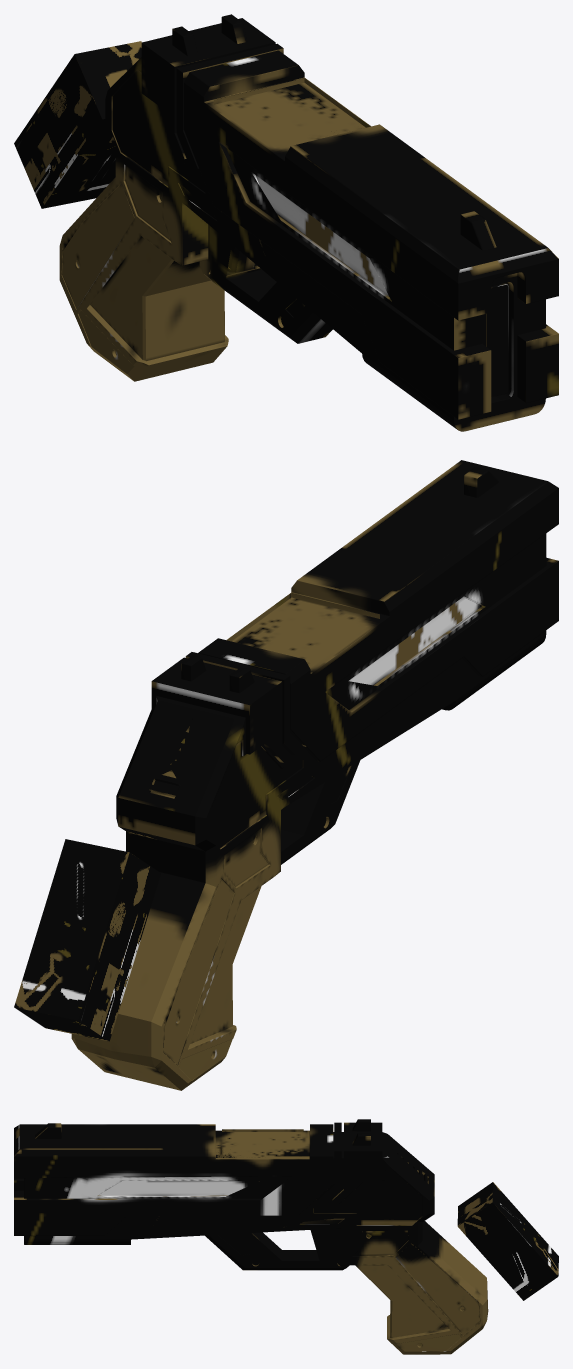
The model's file is GunF.fbx.
The picture shows the model from 3 angles, top to bottom: view 1: azimuth 30°, elevation 25°; view 2: azimuth 150°, elevation 25°; view 3: azimuth 270°, elevation 25°; orthographic projection. The views are drawn at different scales.
Parts seen in each view (by area): view 1: Slice.001, Cube; view 2: Slice.001, Cube; view 3: Slice.001, Cube.
Boxes of the visible parts, bbox=[...] form: Slice.001: bbox=[59, 14, 558, 431]; Cube: bbox=[14, 41, 141, 208]; Slice.001: bbox=[71, 460, 558, 1090]; Cube: bbox=[14, 839, 160, 1041]; Slice.001: bbox=[14, 1119, 488, 1354]; Cube: bbox=[457, 1182, 558, 1300].
Size of the model in its own units: 39.33 by 140 by 316.
Materials: 1 (1 with a texture image).
